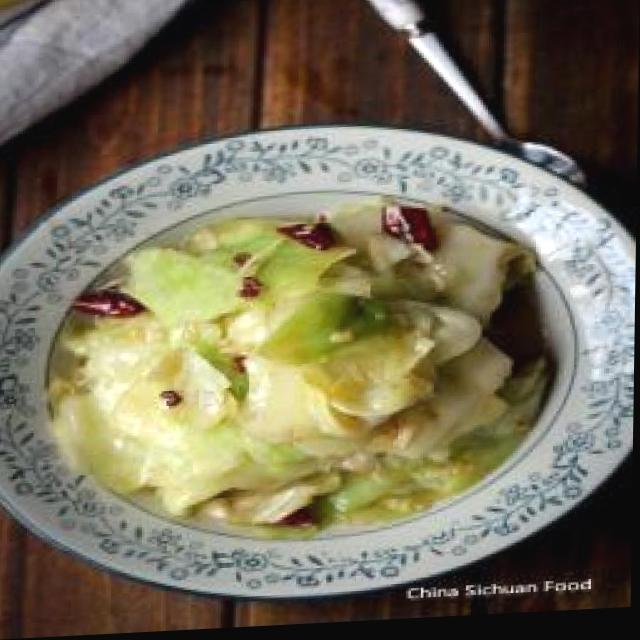chinese_cabbage: (66, 208, 537, 522)
